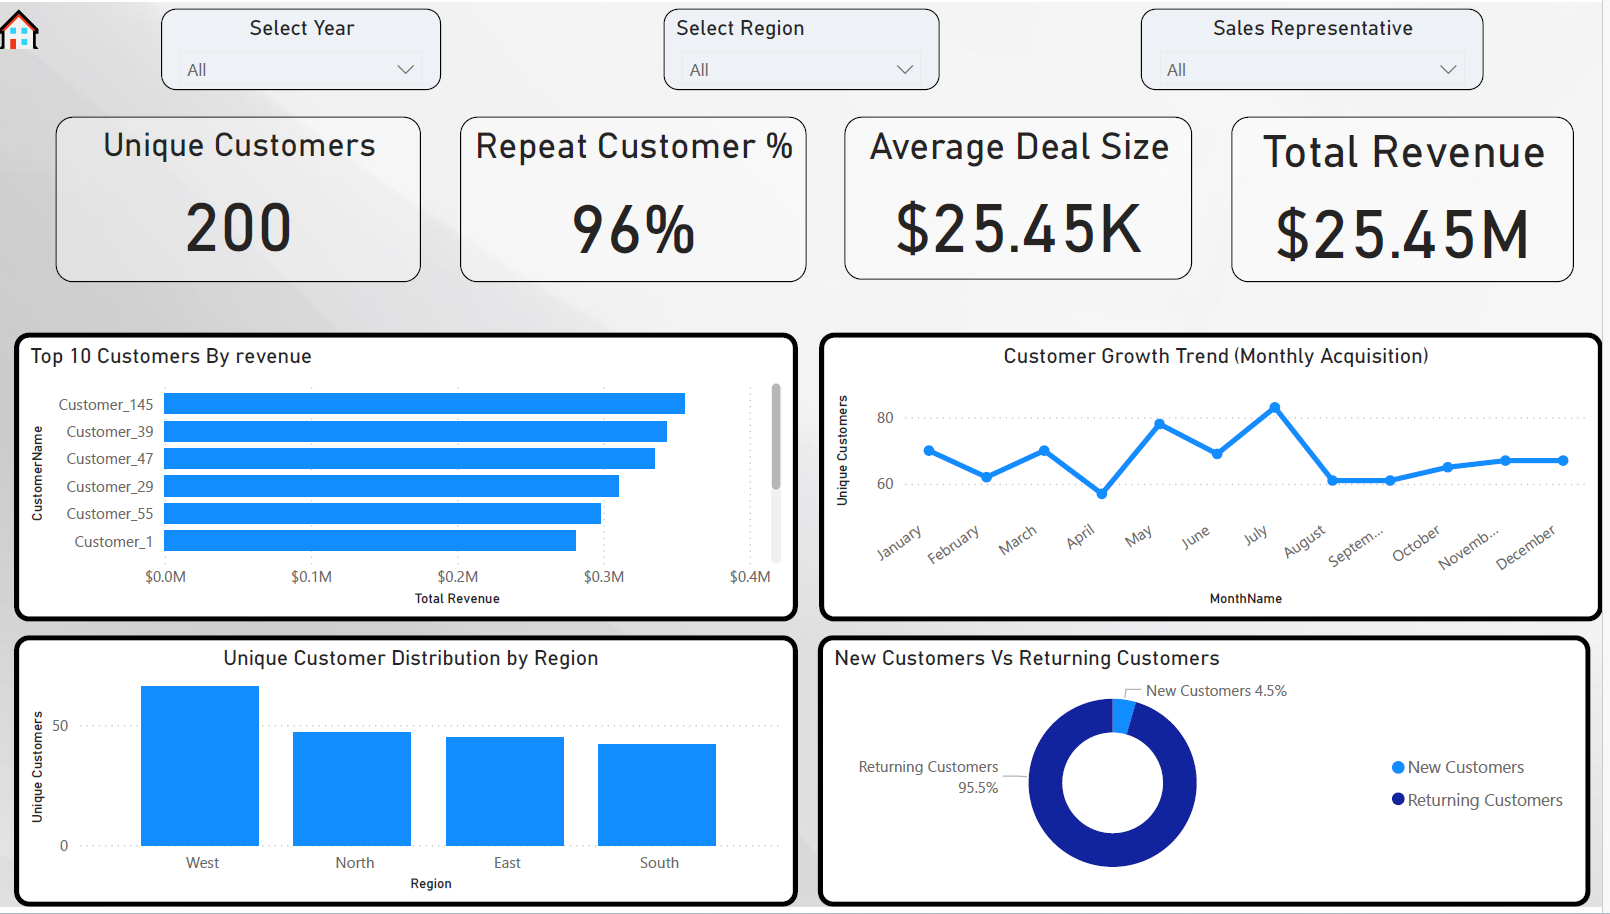

The page's visual inventory and layout, read from the dashboard file:
{"tool":"powerbi","page":{"name":"Customer Intelligence","canvas":[1280,720],"ordinal":2},"visuals":[{"type":"card","title":"Unique Customers","fields":{"Values":["Measures (2).Unique Customers"]},"box":[49.4,90.6,290.9,131.7],"z":0},{"type":"card","title":"Average Deal Size","fields":{"Values":["Fact_Deals.Avg Deal Size"]},"box":[677.4,90.6,277.2,130.4],"z":1000},{"type":"card","title":"Total Revenue","fields":{"Values":["Fact_Deals.Total Revenue"]},"box":[985.3,90.6,273.1,131.7],"z":2000},{"type":"lineChart","title":"Customer Growth Trend (Monthly Acquisition)","fields":{"Category":["Dim_Date.MonthName"],"Y":["Measures (2).Unique Customers"]},"box":[656.7,262.9,623.6,229.9],"z":3000},{"type":"donutChart","title":"New Customers Vs Returning Customers","fields":{"Y":["Measures (2).New Customers","Measures (2).Returning Customers"]},"box":[656.3,504.3,615.3,216],"z":4000},{"type":"card","title":"Repeat Customer %","fields":{"Values":["Measures (2).Repeat Customer %"]},"box":[371,90.6,275.8,131.7],"z":5000},{"type":"barChart","title":"Top 10 Customers By revenue","fields":{"Category":["Dim_Customer.CustomerName"],"Y":["Fact_Deals.Total Revenue"]},"box":[15.9,262.9,623.6,229.9],"z":6000},{"type":"clusteredColumnChart","title":"Unique Customer Distribution by Region","fields":{"Category":["Dim_Customer.Region"],"Y":["Measures (2).Unique Customers"]},"box":[16,504,624,216],"z":7000},{"type":"slicer","title":"Select Year ","fields":{"Values":["Dim_Date.Year"]},"box":[133.3,4.9,222.6,64.8],"z":8000},{"type":"slicer","title":"Select Region","fields":{"Values":["Dim_Customer.Region"]},"box":[533.2,4.9,220.1,64.8],"z":9000},{"type":"slicer","title":"Sales Representative","fields":{"Values":["Dim_SalesRep.SalesRepName"]},"box":[913.5,4.9,272.7,64.8],"z":10000},{"type":"pageNavigator","title":"🏠","box":[0,0,51.9,37.4],"z":11000}]}

Visuals, with their boxes in screenshot pixels (x1, y1, x2, y2), scaled from the page's 1280x720 canvas onto the 1610x914 screenshot:
"Unique Customers" card: region(62, 115, 428, 282)
"Average Deal Size" card: region(852, 115, 1201, 281)
"Total Revenue" card: region(1239, 115, 1583, 282)
"Customer Growth Trend (Monthly Acquisition)" lineChart: region(826, 334, 1609, 626)
"New Customers Vs Returning Customers" donutChart: region(826, 640, 1599, 913)
"Repeat Customer %" card: region(467, 115, 814, 282)
"Top 10 Customers By revenue" barChart: region(20, 334, 804, 626)
"Unique Customer Distribution by Region" clusteredColumnChart: region(20, 640, 805, 913)
"Select Year " slicer: region(168, 6, 448, 88)
"Select Region" slicer: region(671, 6, 948, 88)
"Sales Representative" slicer: region(1149, 6, 1492, 88)
"🏠" pageNavigator: region(0, 0, 65, 47)
